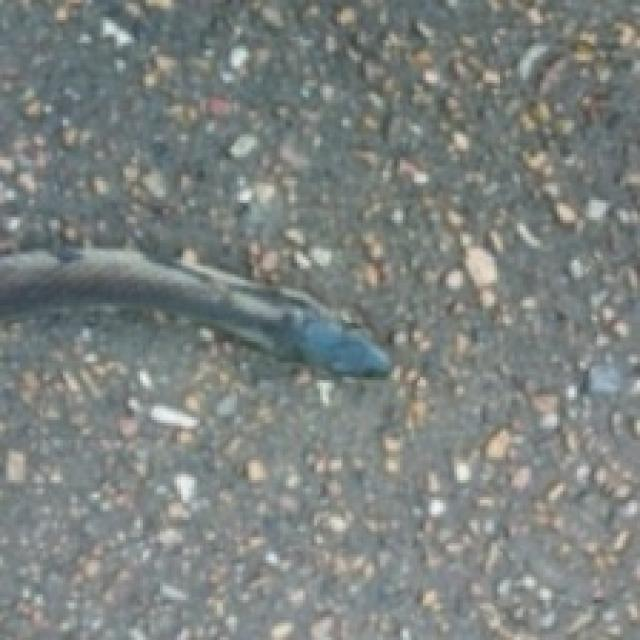reddish rat snake: (0, 249, 389, 374)
